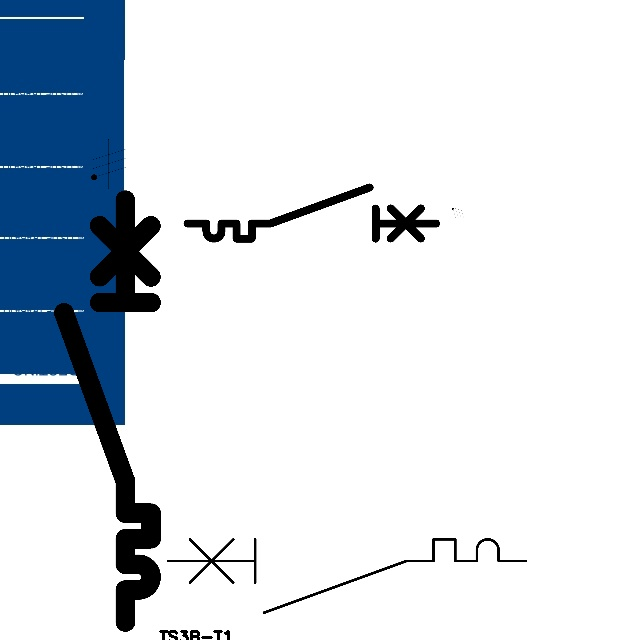interruptor_termomagnetico: (53, 189, 162, 633), (159, 530, 535, 622), (181, 181, 443, 245)
